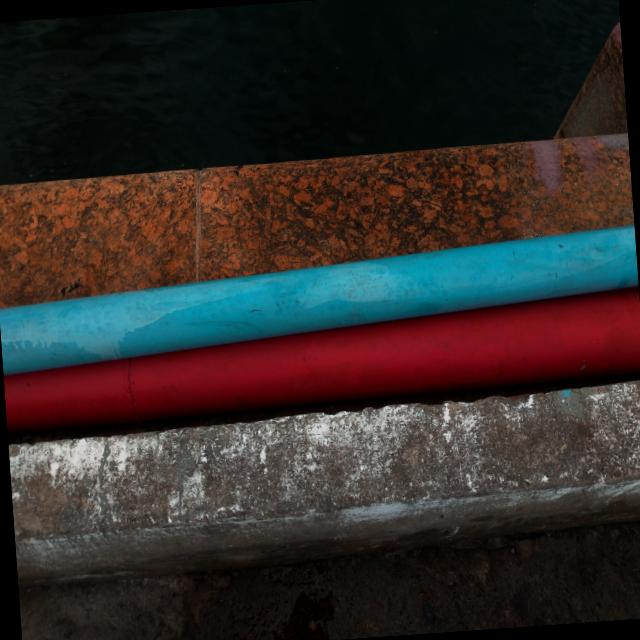gas: (6, 285, 640, 436), (0, 227, 638, 372)
